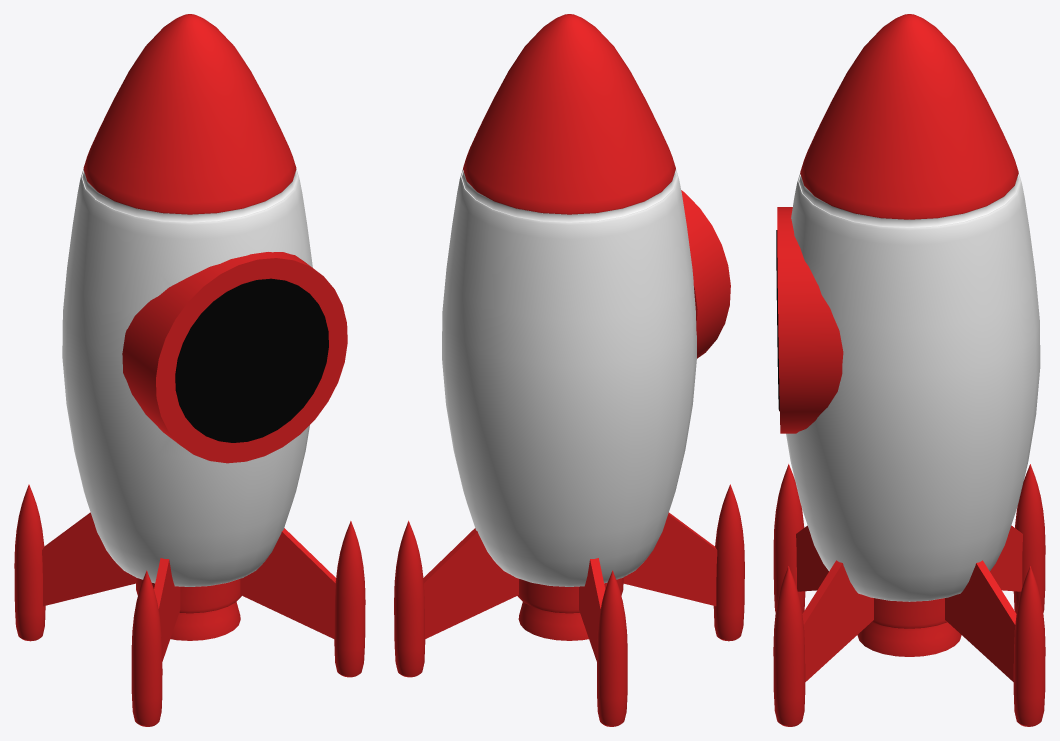
Rendered from rocket.glb.
3 views of the same model, side by side, from view 1: azimuth 30°, elevation 25°; view 2: azimuth 150°, elevation 25°; view 3: azimuth 270°, elevation 25° (orthographic). The views are drawn at different scales.
Visible parts, largest first — view 1: Circle.010, Circle.013, Circle.012, Plane.003, Circle.011, Circle.009, Plane.002; view 2: Circle.010, Plane.002, Circle.009, Circle.012, Circle.011, Plane.003; view 3: Circle.010, Circle.012, Circle.011, Circle.009, Plane.003, Plane.002.
Boxes of the visible parts, x1,y1,x2,y2 form: Circle.010: (62,14,312,640); Circle.013: (175,278,328,442); Circle.012: (122,252,347,463); Plane.003: (42,512,335,639); Circle.011: (14,484,365,677); Circle.009: (131,570,162,726); Plane.002: (154,558,180,661); Circle.010: (442,14,696,640); Plane.002: (423,512,717,639); Circle.009: (394,484,744,677); Circle.012: (681,190,730,358); Circle.011: (597,570,627,726); Plane.003: (579,558,605,661); Circle.010: (786,14,1040,656); Circle.012: (777,207,843,433); Circle.011: (773,464,1045,726); Circle.009: (773,464,1045,726); Plane.003: (802,525,1022,681); Plane.002: (796,525,1016,681).
Bounding box in the file's own units: 1.05 × 2.81 × 1.05.
